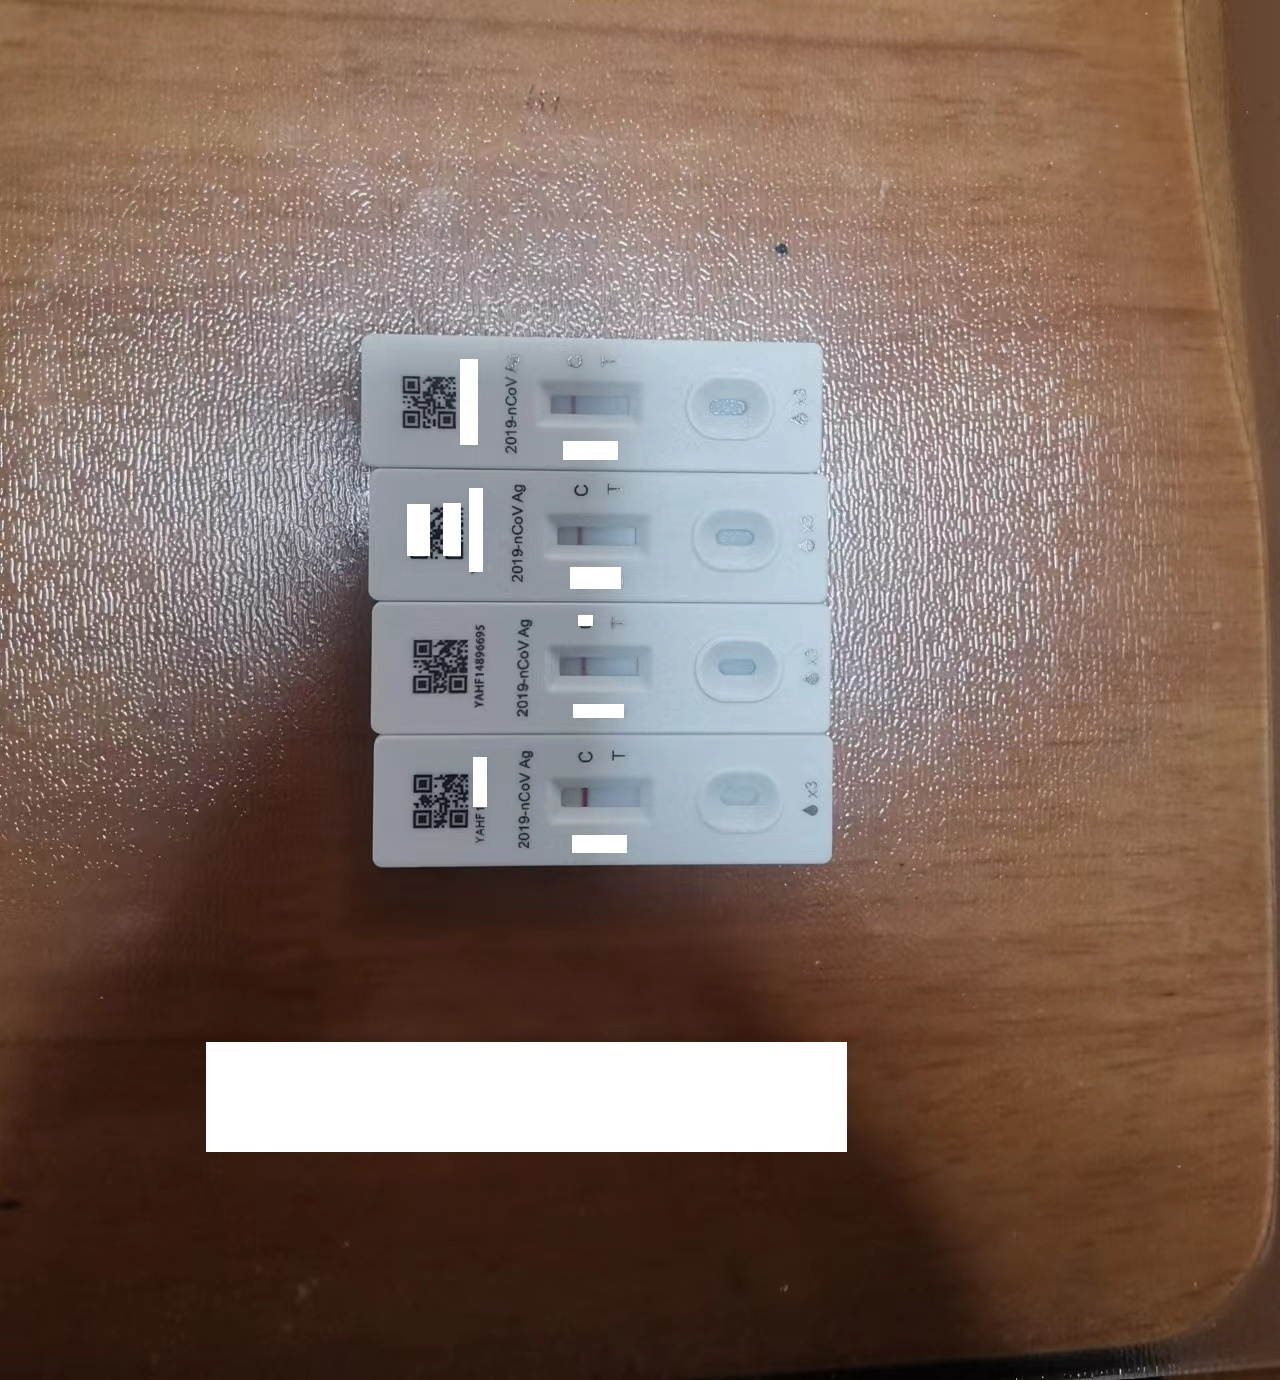negative: (539, 378, 644, 427), (546, 646, 652, 686), (546, 782, 654, 821), (541, 519, 652, 555)
